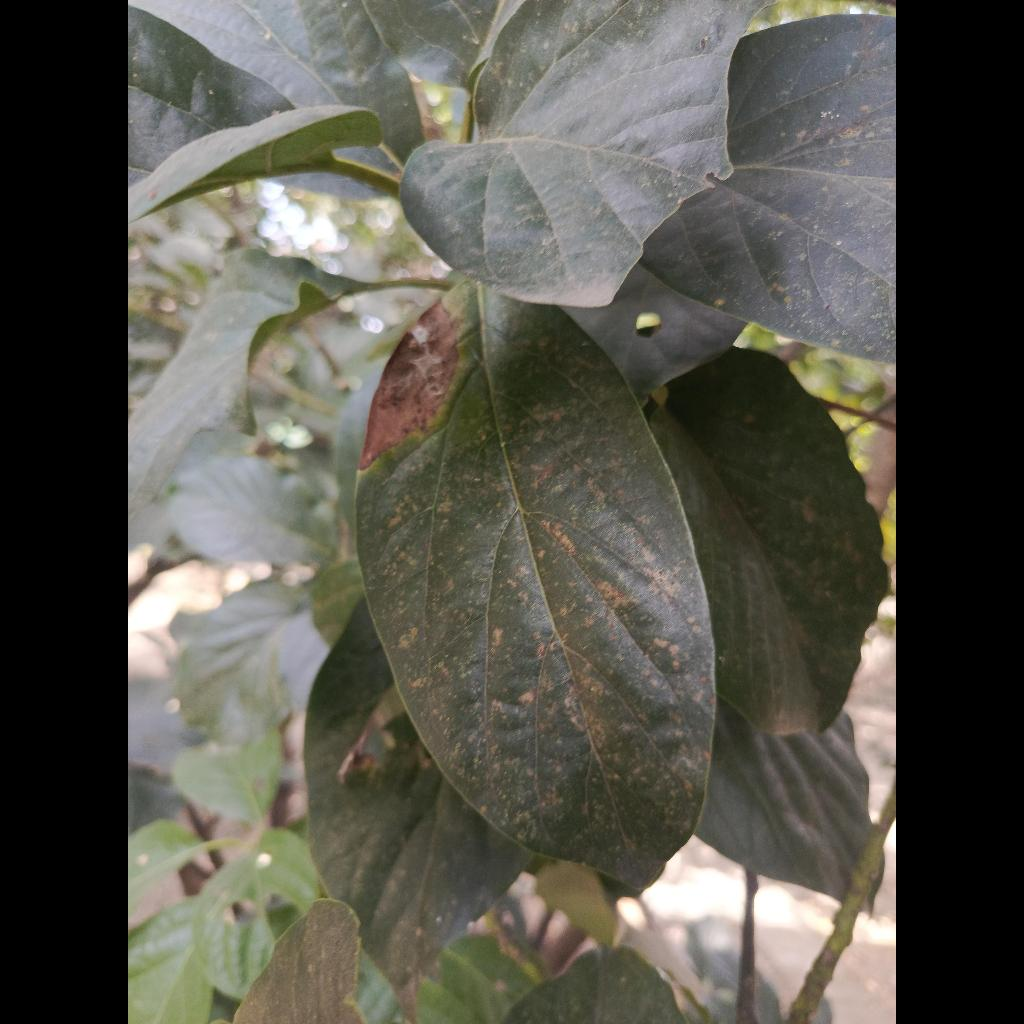Anthracnose: (357, 282, 715, 887)
